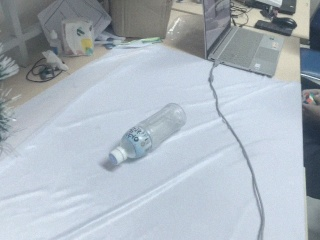bottle: (105, 100, 188, 168)
box: (107, 1, 173, 43)
